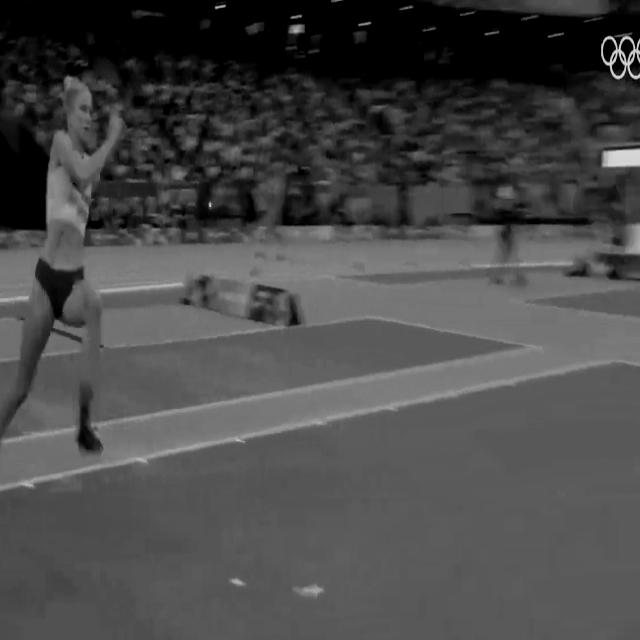run: (0, 74, 135, 488)
